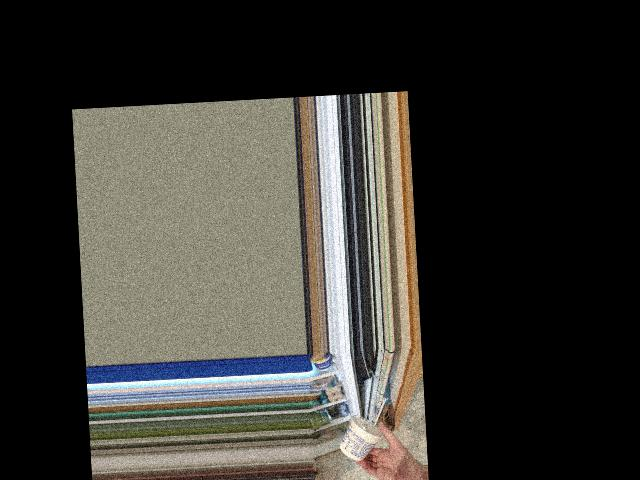cotage: (339, 411, 384, 455)
